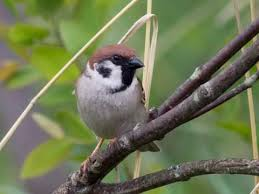hsparrow: (66, 42, 169, 162)
